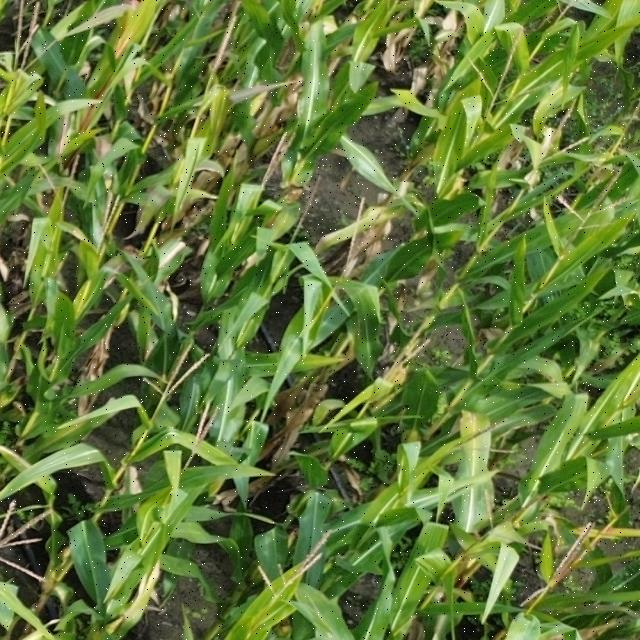gray-leaf-spot: (333, 280, 401, 356)
northern-leaf-blight: (222, 190, 300, 268), (458, 406, 508, 476)
